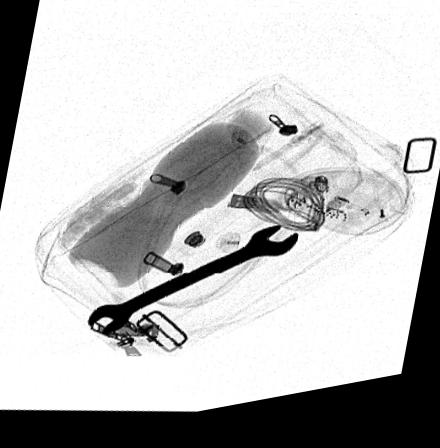Wrench: (85, 232, 299, 339)
